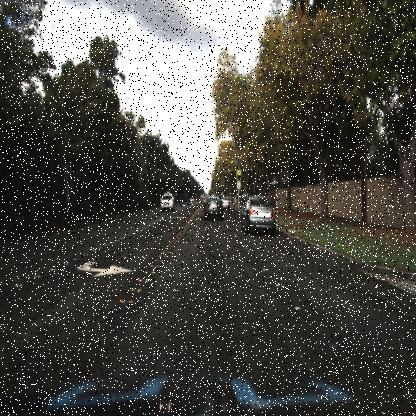car: (235, 193, 287, 242), (199, 192, 226, 225), (156, 190, 177, 215), (220, 192, 230, 208)
